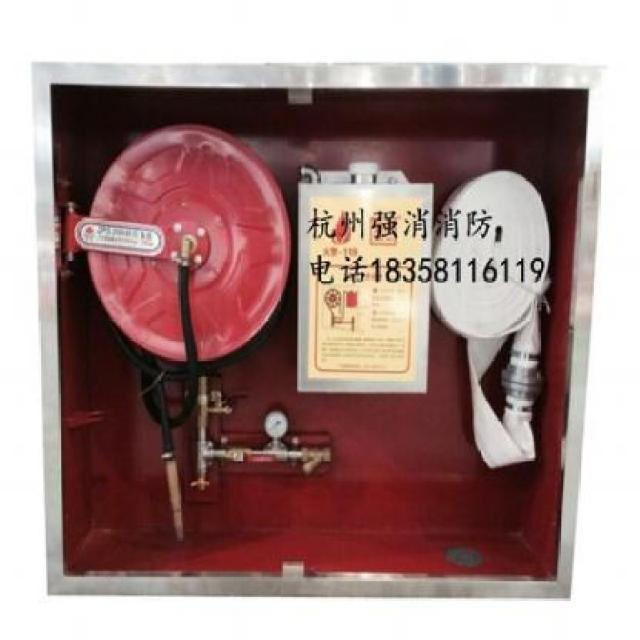firehydrant: (28, 56, 612, 610)
